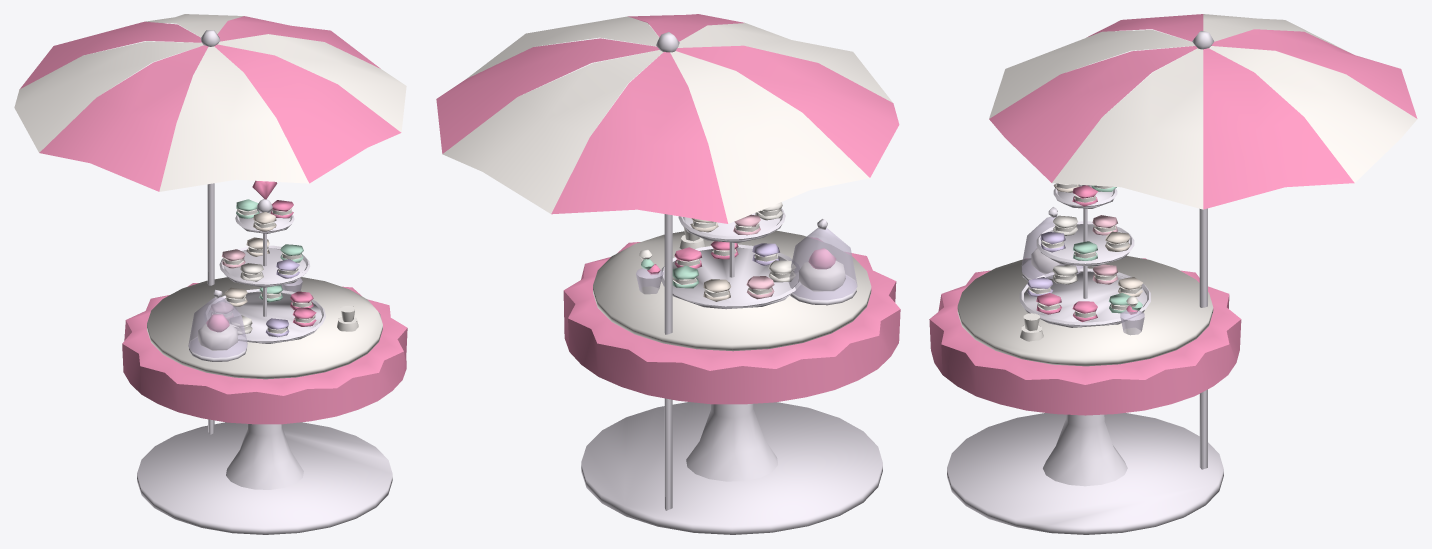
File: lite_macaron_stand.glb
3 views of the same model, side by side, from view 1: azimuth 30°, elevation 25°; view 2: azimuth 150°, elevation 25°; view 3: azimuth 270°, elevation 25° (orthographic). The views are drawn at different scales.
Parts seen in each view (by area): view 1: macaron_stand; view 2: macaron_stand; view 3: macaron_stand.
Part boxes in pixels (left/top/right/bottom): macaron_stand: left=14, top=14, right=407, bottom=534; macaron_stand: left=436, top=14, right=900, bottom=534; macaron_stand: left=929, top=14, right=1417, bottom=534.
Bounding box in the file's own units: 2 × 2.29 × 2.28.
